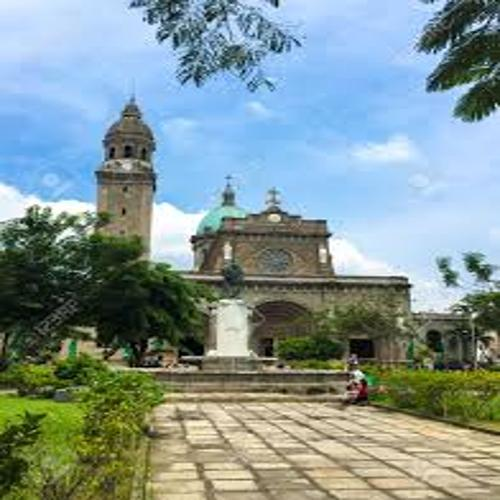Manila Cathedral Church: (58, 72, 484, 386)
